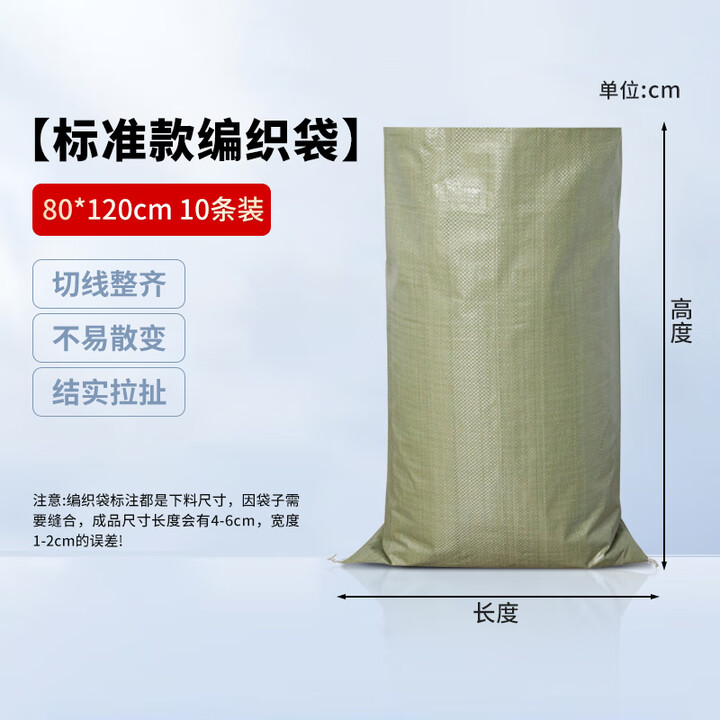Parcel: (380, 128, 646, 568)
